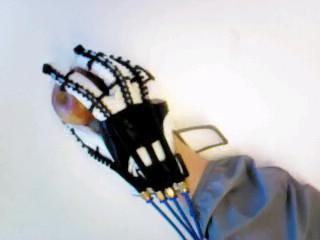apple: (49, 79, 96, 125)
hand: (43, 44, 188, 201)
